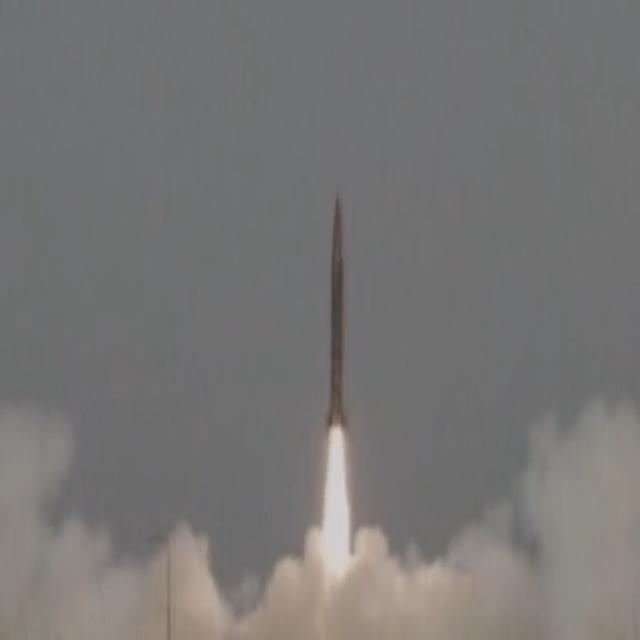missile: (316, 188, 351, 431)
